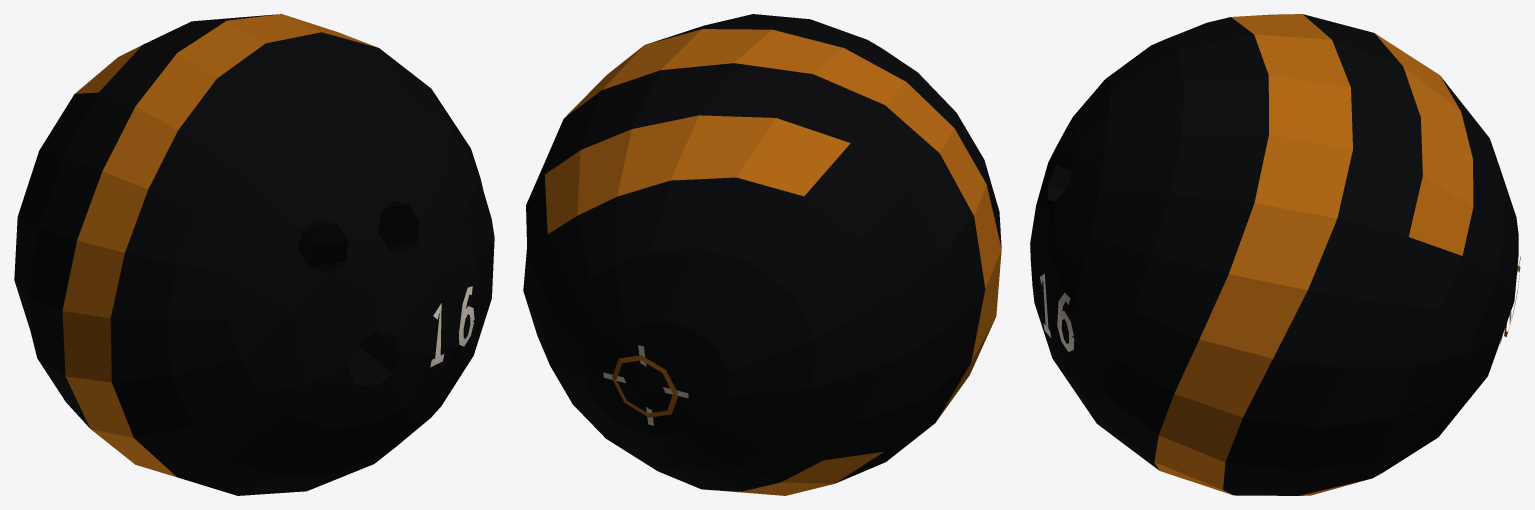
The model's file is cozy_bowling_ball_16lb.obj.
The picture shows the model from 3 angles, left to right: view 1: azimuth 30°, elevation 25°; view 2: azimuth 150°, elevation 25°; view 3: azimuth 270°, elevation 25°; orthographic projection.
Visible parts, largest first — view 1: Ball_16lb_Mesh; view 2: Ball_16lb_Mesh; view 3: Ball_16lb_Mesh.
Part boxes in pixels (<box>): Ball_16lb_Mesh: <box>14,14,494,495</box>; Ball_16lb_Mesh: <box>523,14,1001,495</box>; Ball_16lb_Mesh: <box>1030,14,1520,495</box>.
Bounding box in the file's own units: 0.2161 × 0.2161 × 0.2173.
